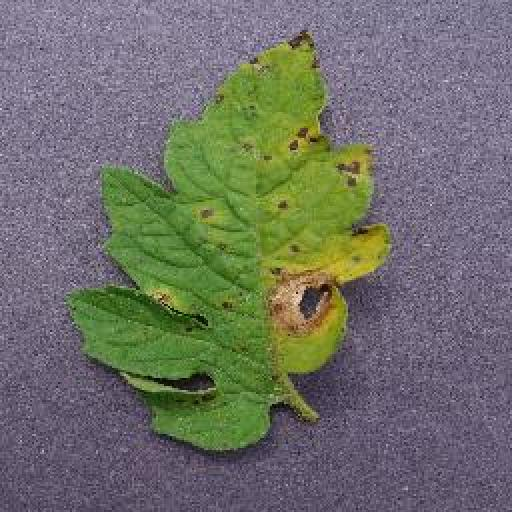Septoria: (74, 19, 389, 453)
